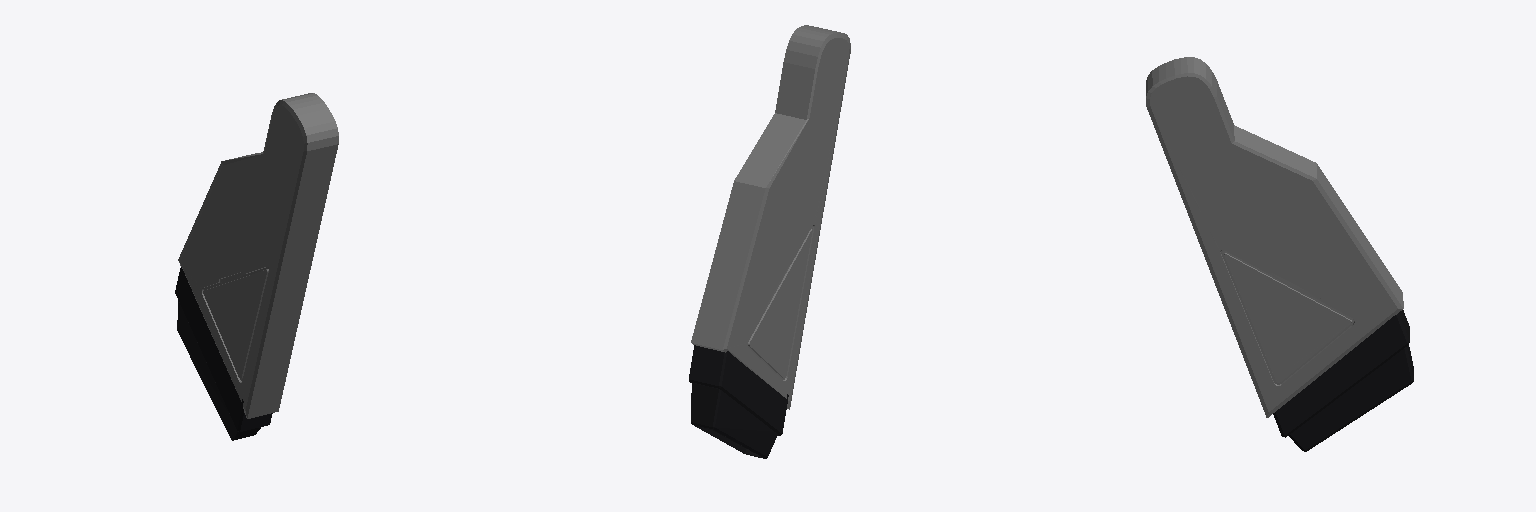
The model's file is leftLegGunStock.obj.
The picture shows the model from 3 angles: view 1: azimuth 30°, elevation 25°; view 2: azimuth 150°, elevation 25°; view 3: azimuth 270°, elevation 25°; orthographic projection.
Parts seen in each view (by area): view 1: leftLegGunStock freedom:FormaS17, freedom:ChafCaja1240 leftLegGunStock, leftLegGunStock freedom:ChafCaja1239; view 2: leftLegGunStock freedom:FormaS17, freedom:ChafCaja1240 leftLegGunStock, leftLegGunStock freedom:ChafCaja1239; view 3: leftLegGunStock freedom:FormaS17, freedom:ChafCaja1240 leftLegGunStock, leftLegGunStock freedom:ChafCaja1239.
Boxes of the visible parts, x1=… form: leftLegGunStock freedom:FormaS17: x1=178, y1=93, x2=338, y2=418; freedom:ChafCaja1240 leftLegGunStock: x1=175, y1=267, x2=272, y2=431; leftLegGunStock freedom:ChafCaja1239: x1=177, y1=300, x2=260, y2=440; leftLegGunStock freedom:FormaS17: x1=691, y1=25, x2=850, y2=409; freedom:ChafCaja1240 leftLegGunStock: x1=689, y1=345, x2=788, y2=435; leftLegGunStock freedom:ChafCaja1239: x1=691, y1=383, x2=777, y2=458; leftLegGunStock freedom:FormaS17: x1=1146, y1=57, x2=1403, y2=417; freedom:ChafCaja1240 leftLegGunStock: x1=1273, y1=310, x2=1409, y2=437; leftLegGunStock freedom:ChafCaja1239: x1=1289, y1=345, x2=1413, y2=451.
Size of the model in its own units: 4.04 by 42.6 by 27.14.